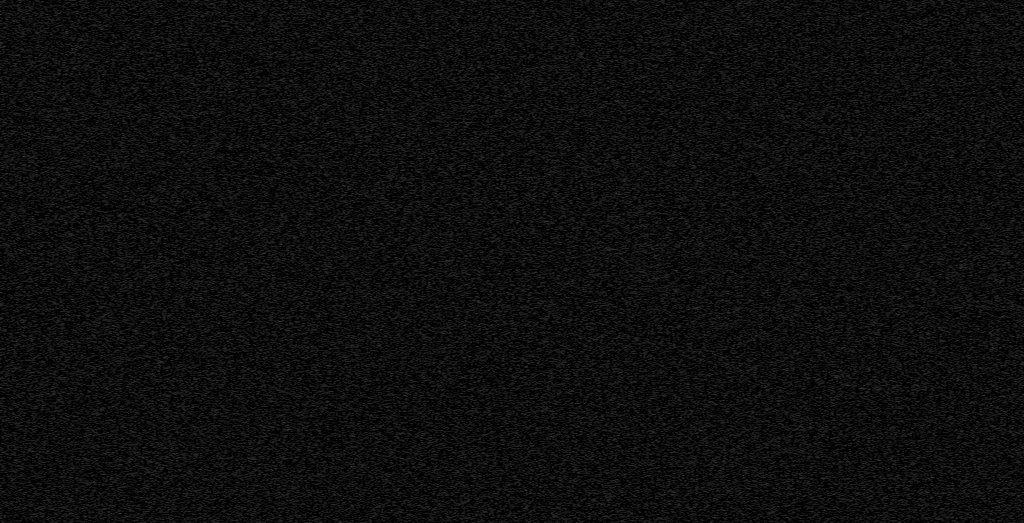wv_am: (557, 0, 563, 522), (337, 0, 342, 522)
wv_lsb: (354, 35, 359, 134), (145, 5, 150, 93), (354, 308, 359, 379), (354, 244, 359, 307), (354, 441, 359, 495), (354, 143, 359, 190), (354, 380, 359, 413), (354, 5, 359, 34), (354, 216, 359, 243), (354, 414, 359, 440), (354, 191, 359, 215), (146, 127, 150, 152), (354, 496, 359, 512), (146, 94, 150, 109), (354, 513, 359, 522), (146, 157, 150, 166), (146, 114, 150, 122), (354, 135, 358, 142), (146, 167, 150, 173), (145, 110, 150, 113), (146, 333, 150, 336), (146, 174, 150, 177), (146, 123, 150, 126), (146, 439, 149, 442)
wv_usb: (712, 292, 716, 356), (712, 9, 716, 52), (712, 401, 716, 433), (355, 432, 360, 453), (712, 216, 716, 241), (712, 100, 716, 121), (712, 60, 716, 80), (712, 434, 716, 454), (712, 160, 716, 179), (712, 471, 716, 490), (712, 81, 716, 99), (355, 6, 360, 20), (712, 357, 716, 373), (712, 247, 716, 262), (356, 46, 360, 61), (712, 385, 716, 400), (712, 180, 716, 194), (712, 122, 716, 136), (712, 137, 716, 150), (712, 203, 716, 215), (712, 374, 716, 384), (712, 280, 716, 290), (356, 35, 360, 45), (712, 271, 716, 279), (712, 151, 716, 159), (712, 512, 716, 519), (712, 263, 716, 270), (712, 455, 716, 462), (356, 27, 360, 34), (356, 319, 359, 328), (356, 165, 359, 174), (356, 152, 359, 161), (712, 497, 716, 503), (712, 463, 716, 469), (356, 403, 359, 411), (356, 363, 360, 369), (356, 84, 359, 92), (356, 71, 359, 79), (712, 491, 716, 496), (356, 65, 360, 70), (712, 504, 716, 508), (712, 242, 716, 246), (356, 334, 360, 338), (356, 305, 360, 309), (356, 294, 360, 298), (356, 477, 359, 482), (356, 462, 359, 467), (356, 425, 359, 430), (356, 299, 359, 304), (356, 124, 359, 129), (356, 115, 359, 120), (356, 100, 359, 105), (356, 93, 359, 98), (712, 199, 716, 202), (712, 195, 716, 198), (712, 53, 716, 56), (356, 484, 359, 488), (356, 457, 359, 461), (356, 329, 359, 333), (356, 110, 359, 114), (356, 377, 359, 380), (356, 347, 359, 350), (356, 140, 359, 143), (356, 80, 359, 83)
wv_wbfm: (191, 0, 213, 522)
